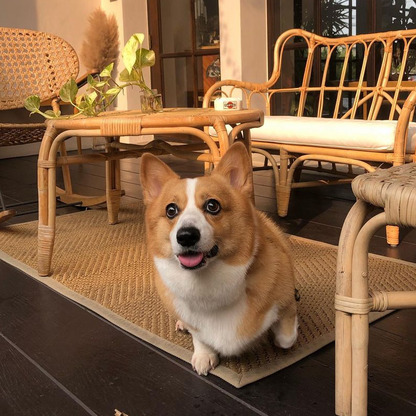Corgi: (130, 135, 321, 373)
